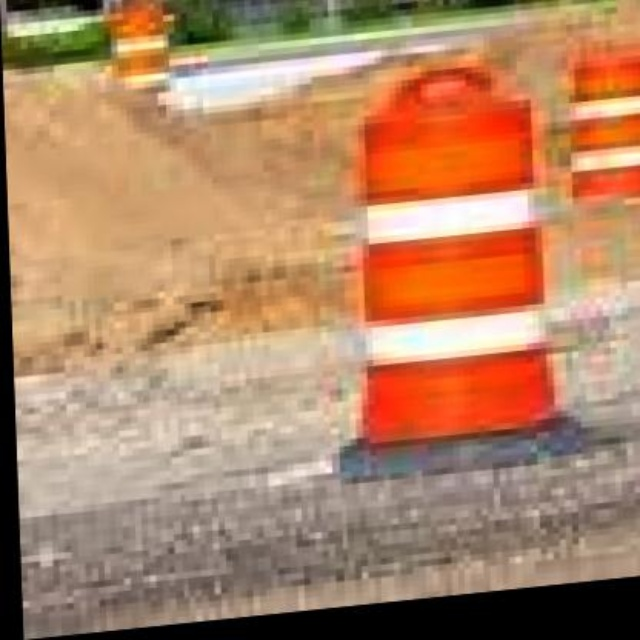obstacle: (317, 64, 565, 474)
